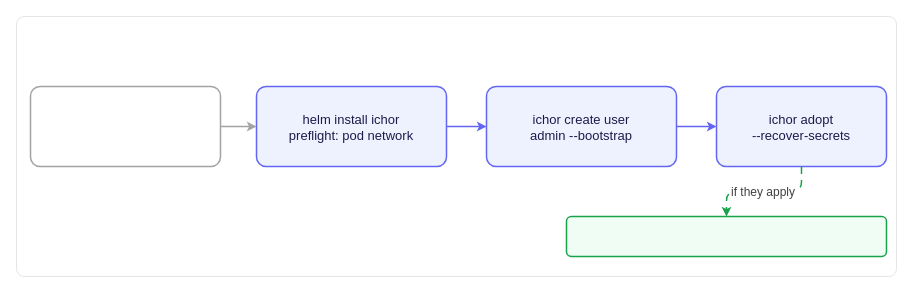
Some shapes in this 913 by 293 pixel diagram are drawn without their labels. Each missing label, with the box of its shape:
helm repo add ichor or the OCI chart: (29, 85, 221, 167)
helm upgrade: Cilium policies on: (565, 215, 887, 257)
